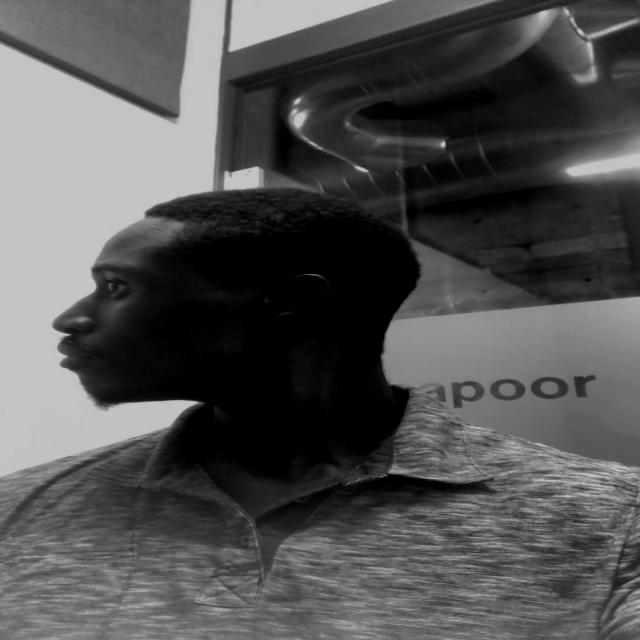real: (53, 210, 363, 408)
